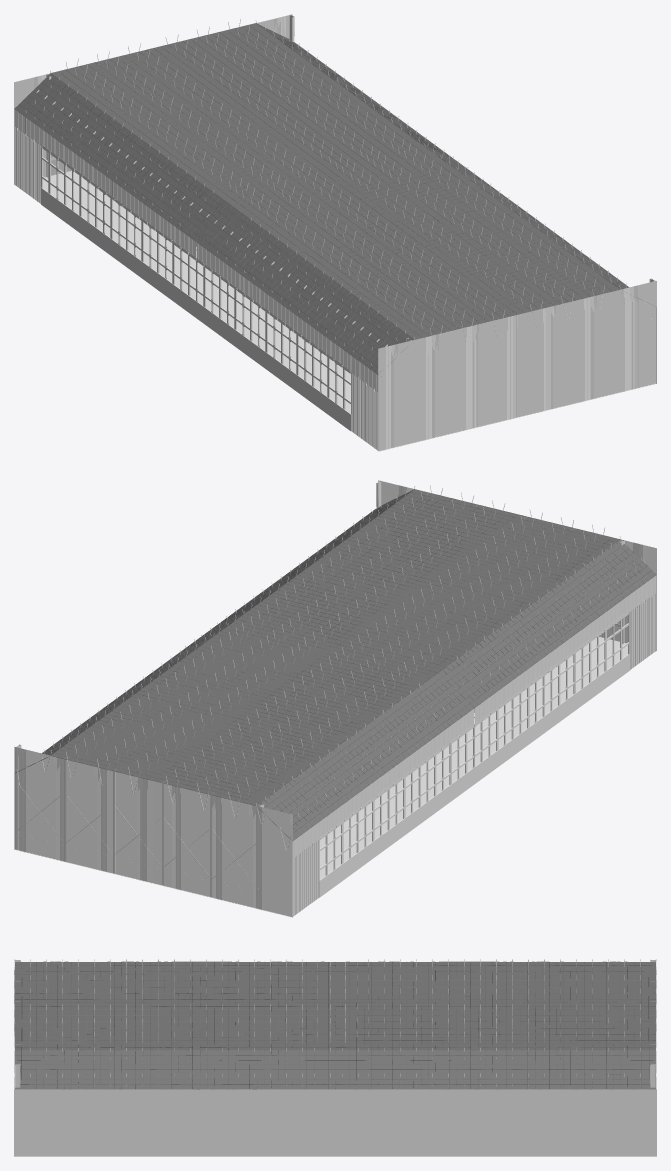
The model's file is hall-transformed.glb.
The picture shows the model from 3 angles, top to bottom: view 1: azimuth 30°, elevation 25°; view 2: azimuth 150°, elevation 25°; view 3: azimuth 270°, elevation 25°; orthographic projection. The views are drawn at different scales.
Parts seen in each view (by area): view 1: wall.001, Plane.010; view 2: wall.001, Plane.010; view 3: wall.001, Plane.010.
Boxes of the visible parts, x1,y1,x2,y2 form: wall.001: [14, 14, 656, 451]; Plane.010: [15, 23, 642, 374]; wall.001: [14, 480, 656, 917]; Plane.010: [14, 489, 656, 840]; wall.001: [14, 959, 656, 1156]; Plane.010: [14, 961, 656, 1089].
Size of the model in its own units: 45.12 by 17.17 by 102.
6 materials, 6 textured.
